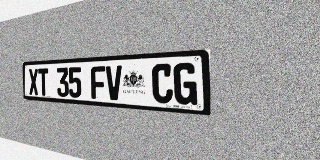3: (57, 67, 69, 97)
5: (68, 67, 82, 98)
C: (152, 63, 173, 104)
F: (91, 66, 106, 100)
G: (174, 62, 197, 105)
T: (38, 68, 49, 96)
V: (106, 65, 122, 101)
X: (29, 69, 39, 95)
